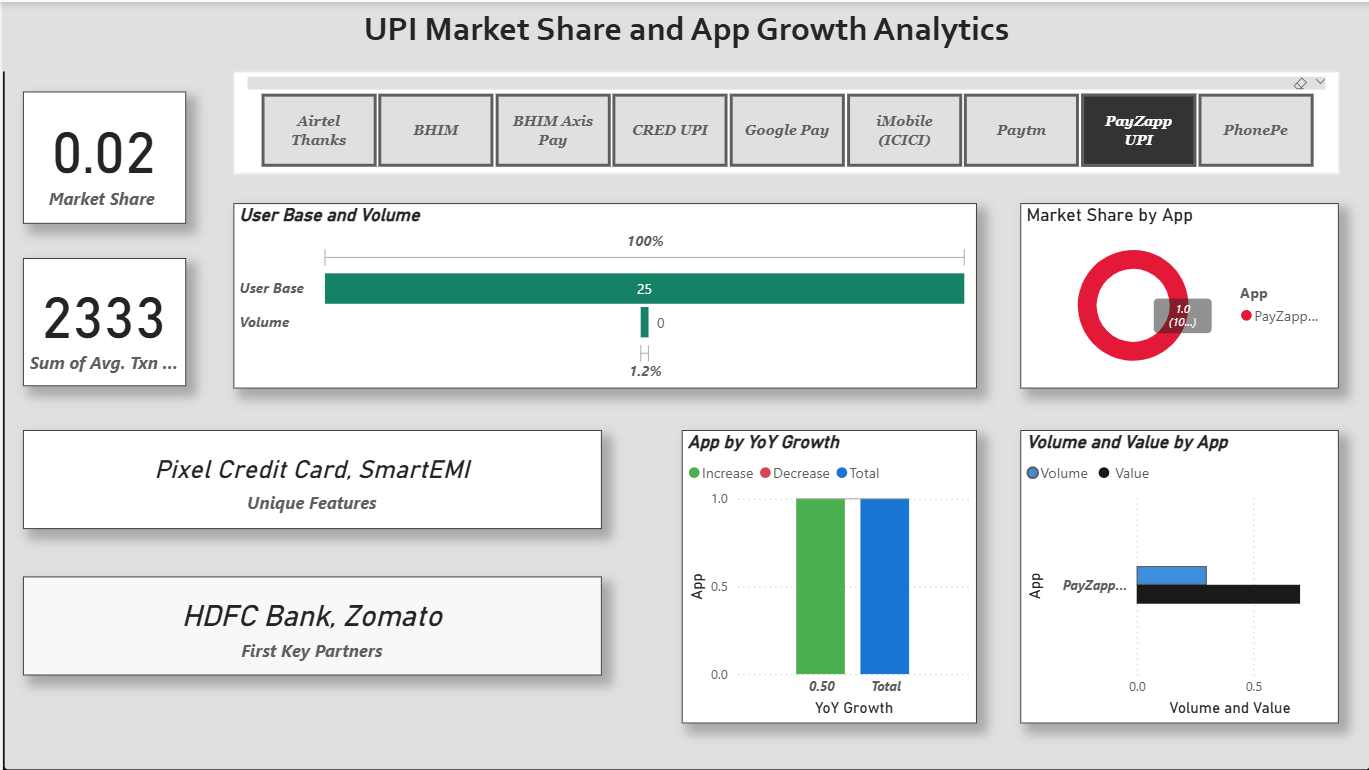

The dashboard page shown, as its layout file describes it:
{"tool":"powerbi","page":{"name":"Page 1","canvas":[1280,720],"ordinal":0},"visuals":[{"type":"donutChart","fields":{"Category":["Sheet1.App Name"],"Y":["CountNonNull(Sheet1.Market Share (Vol.))"]},"box":[974.7,188.4,248.4,173],"z":0},{"type":"slicer","fields":{"Values":["Sheet1.App Name"]},"box":[358,65.1,865,95.9],"z":1000},{"type":"clusteredBarChart","fields":{"Category":["Sheet1.App Name"],"Y":["Sum(Sheet1.Volume (bn))","Sum(Sheet1.Value (₹ trn))"]},"box":[974.7,400.8,275.8,274.1],"z":2000},{"type":"card","fields":{"Values":["Sum(Sheet1.Avg. Txn Size (₹))"]},"box":[18.8,239.8,152.5,119.9],"z":3000},{"type":"waterfallChart","fields":{"Y":["CountNonNull(Sheet1.App Name)"],"Category":["Sheet1.YoY Growth (Vol.)"]},"box":[654.3,400.8,275.8,274.1],"z":4000},{"type":"funnel","fields":{"Y":["Sum(Sheet1.User Base (mn))","Sum(Sheet1.Volume (bn))"]},"box":[215.8,188.4,726.3,173],"z":5000},{"type":"textbox","box":[0,0,1279.6,65.1],"z":6000},{"type":"card","fields":{"Values":["Min(Sheet1.Market Share (Vol.))"]},"box":[18.8,83.9,152.5,123.3],"z":7000},{"type":"card","fields":{"Values":["Min(Sheet1.Unique Features)"]},"box":[18.8,400.8,541.3,92.5],"z":8000},{"type":"card","fields":{"Values":["Min(Sheet1.Key Partners)"]},"box":[18.8,537.9,541.3,92.5],"z":9000}]}

Visuals, with their boxes in screenshot pixels (x1, y1, x2, y2), scaled from the page's 1280x720 canvas onto the 1369x770 screenshot:
donutChart - Sheet1.App Name x CountNonNull(Sheet1.Market Share (Vol.)): (left=1042, top=201, right=1308, bottom=386)
slicer - Sheet1.App Name: (left=383, top=70, right=1308, bottom=172)
clusteredBarChart - Sheet1.App Name x Sum(Sheet1.Volume (bn)): (left=1042, top=429, right=1337, bottom=722)
card - Sum(Sheet1.Avg. Txn Size (₹)): (left=20, top=256, right=183, bottom=385)
waterfallChart - CountNonNull(Sheet1.App Name) x Sheet1.YoY Growth (Vol.): (left=700, top=429, right=995, bottom=722)
funnel - Sum(Sheet1.User Base (mn)) x Sum(Sheet1.Volume (bn)): (left=231, top=201, right=1008, bottom=386)
textbox: (left=0, top=0, right=1368, bottom=70)
card - Min(Sheet1.Market Share (Vol.)): (left=20, top=90, right=183, bottom=222)
card - Min(Sheet1.Unique Features): (left=20, top=429, right=599, bottom=528)
card - Min(Sheet1.Key Partners): (left=20, top=575, right=599, bottom=674)
